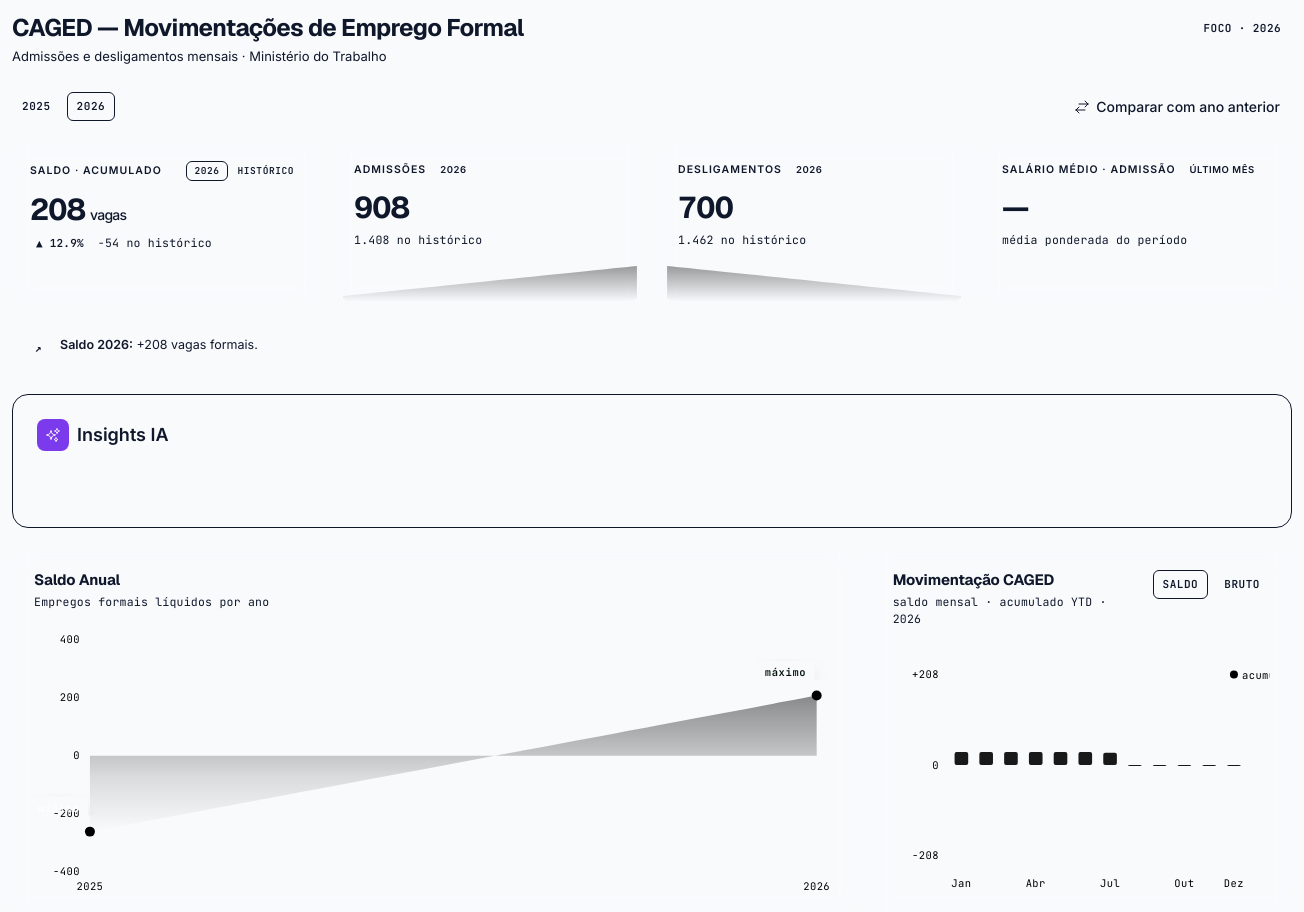
Test: CagedPage — KPI Saldo segue o ano em foco › aba Histórico troca para o acumulado de todo o período (−54)
Check: the text "Saldo · Acumulado" is shown, box [30,163,162,179]
Click the tab "Histórico" at point(266, 171), box [230,160,302,181]
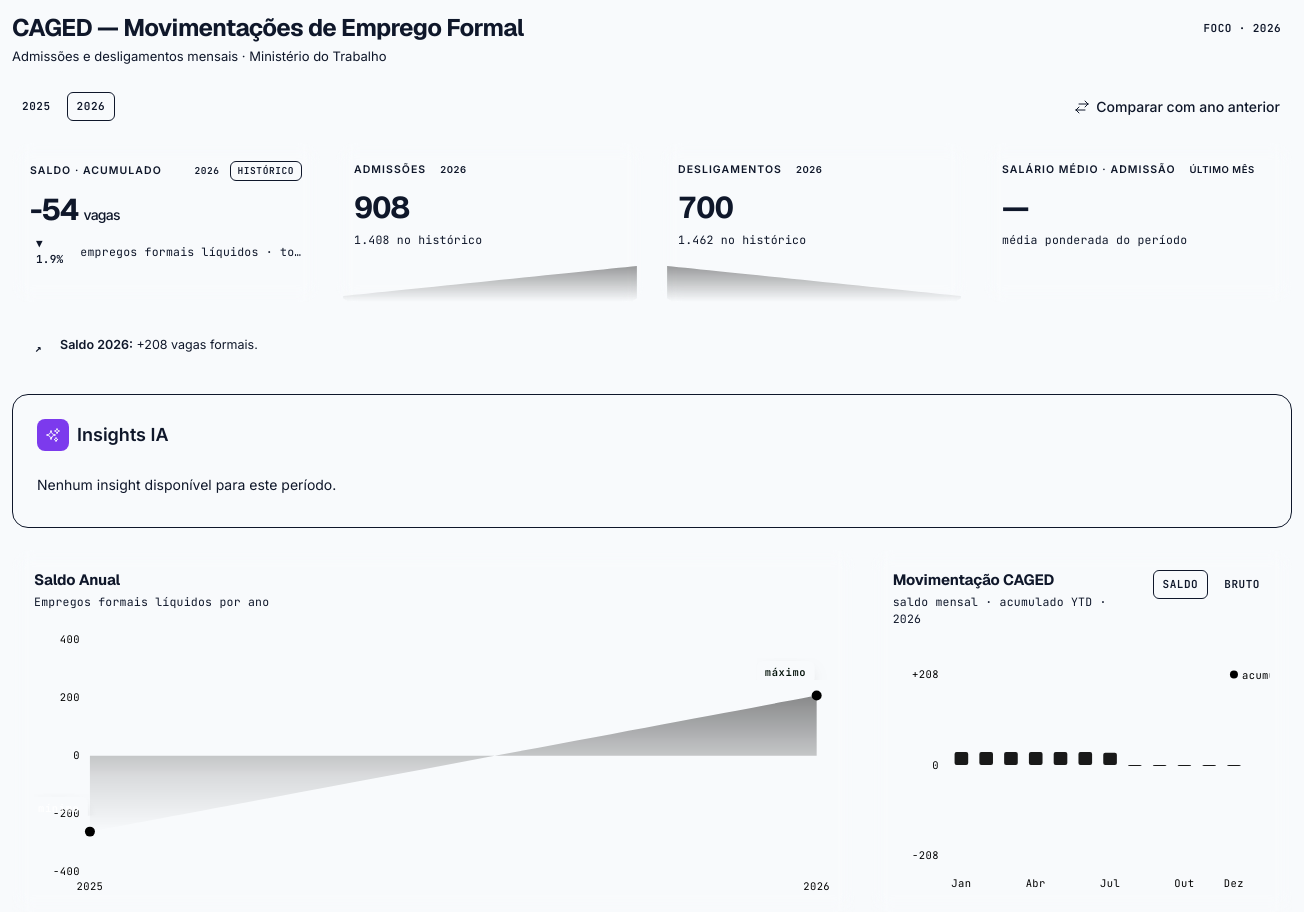
Check: the element with class "nid-kpi-value" shows "-54", box [30,190,78,229]
